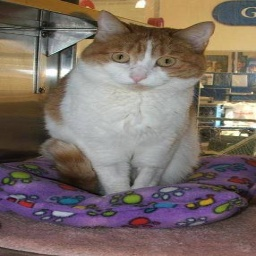cat: (34, 9, 217, 200)
